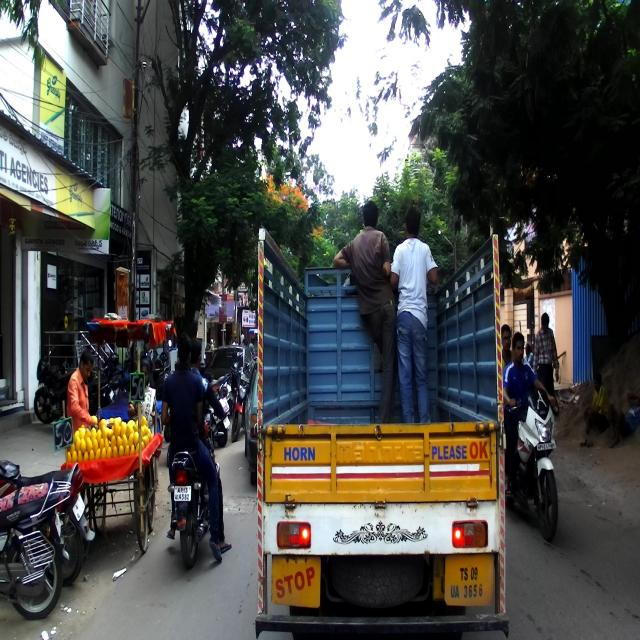motorcycle: (167, 383, 228, 569), (0, 477, 73, 621), (502, 385, 560, 539), (34, 342, 107, 424)
truck: (254, 225, 510, 638)
